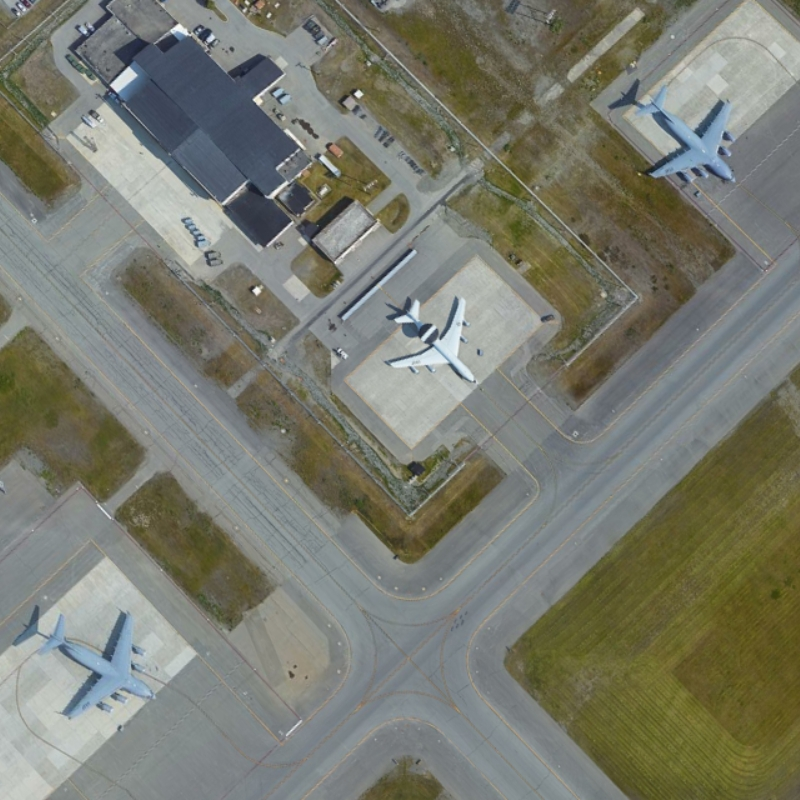A3: (32, 598, 163, 727), (629, 79, 749, 190)
A7: (377, 287, 490, 391)
